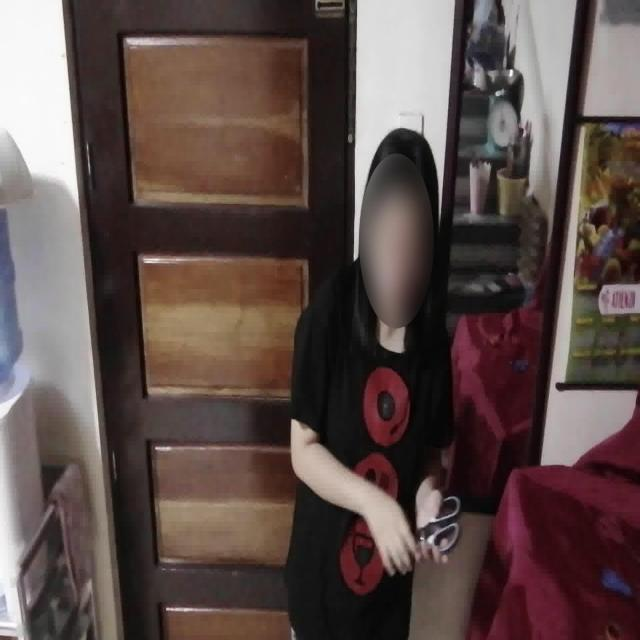scissor: (416, 494, 459, 552)
